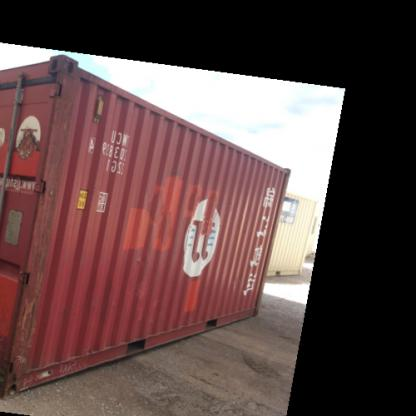Damage: (25, 155, 66, 259), (10, 259, 49, 361), (50, 62, 78, 155), (5, 356, 30, 392)
